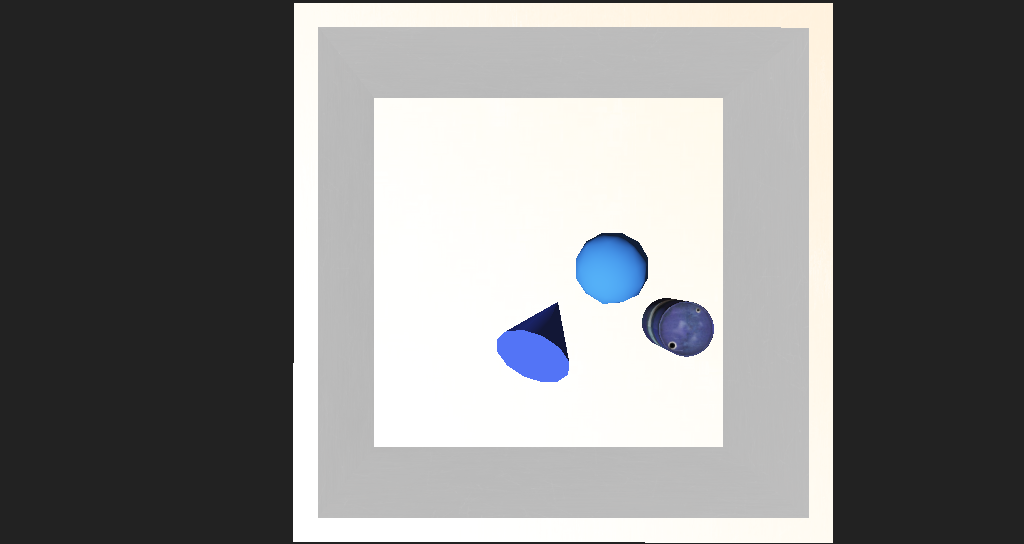cone: (586, 282, 640, 320)
cylinder: (451, 265, 546, 346)
sphere: (529, 246, 589, 289)
